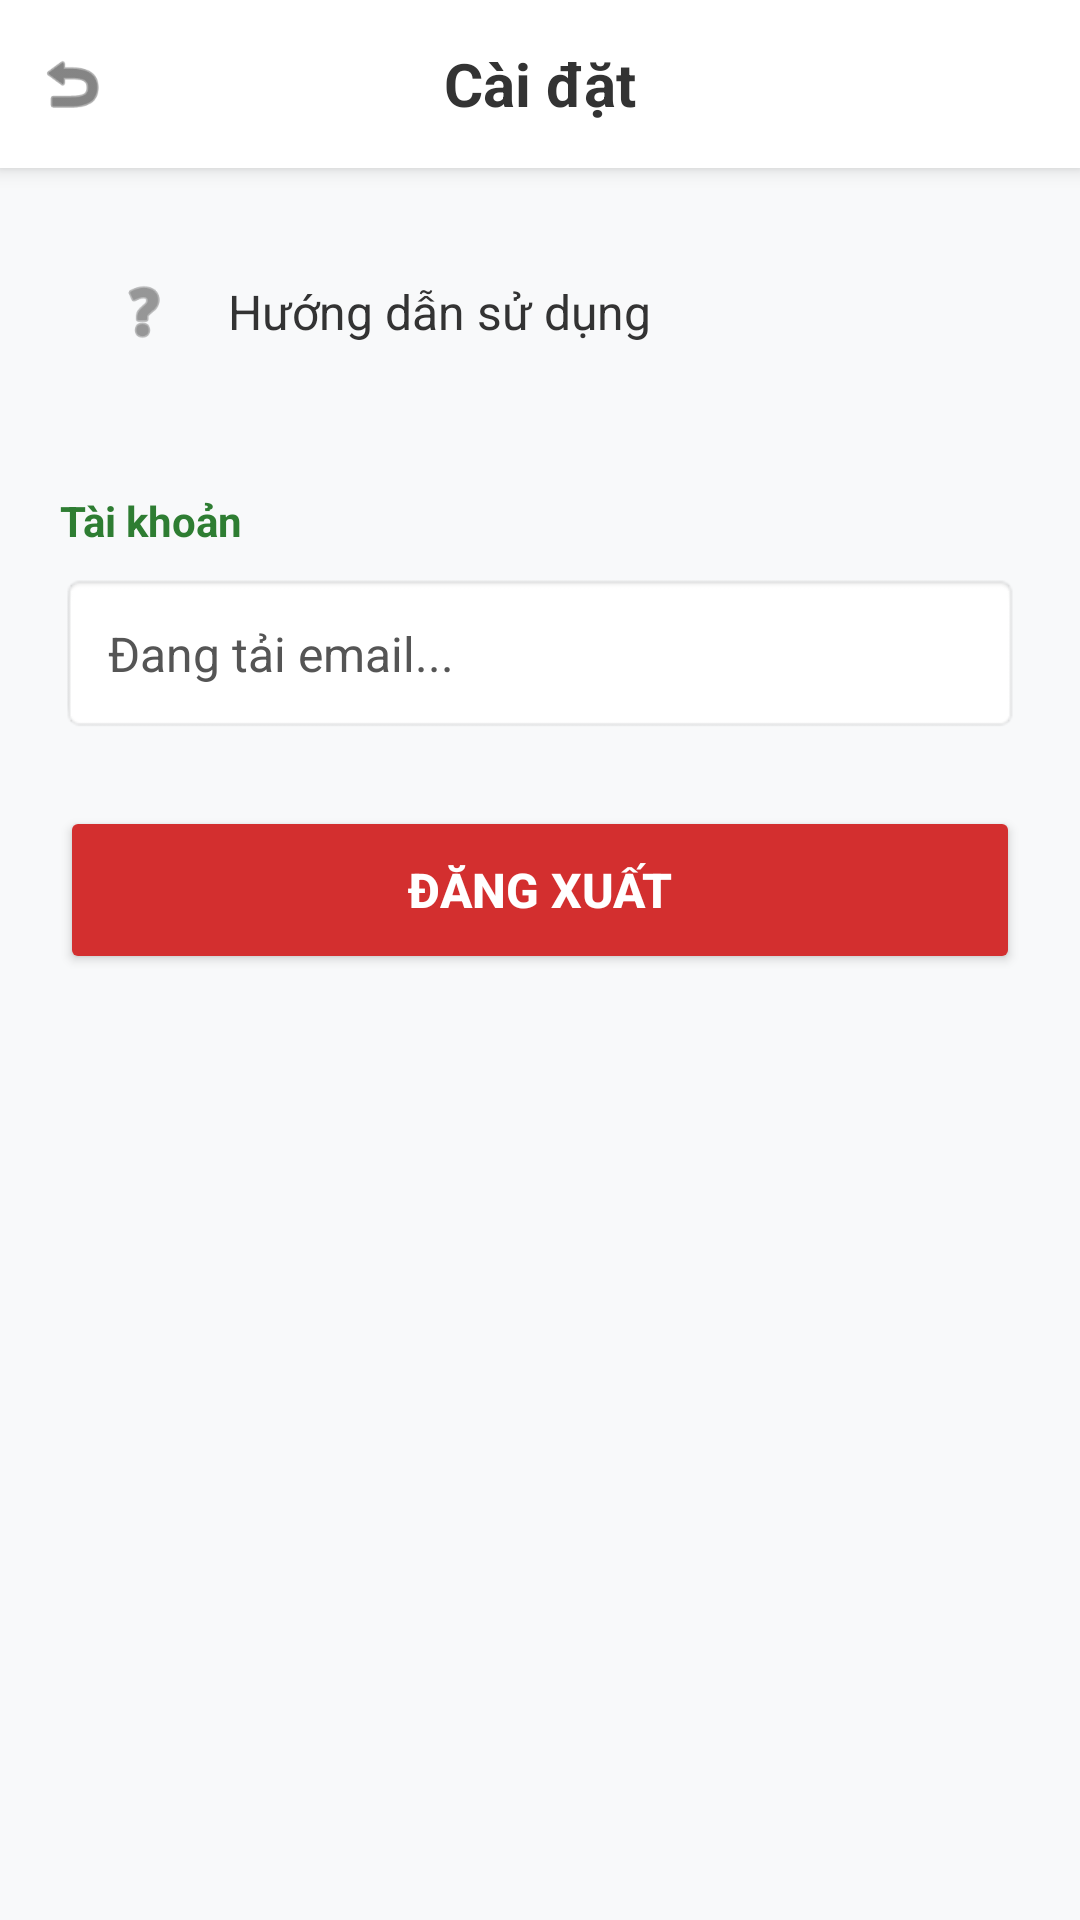

Icons on this 1080px x 1920px Android screen, each with its box as (x1, y1, x2, y2):
help: (128, 286, 160, 338)
revert: (47, 61, 99, 108)
